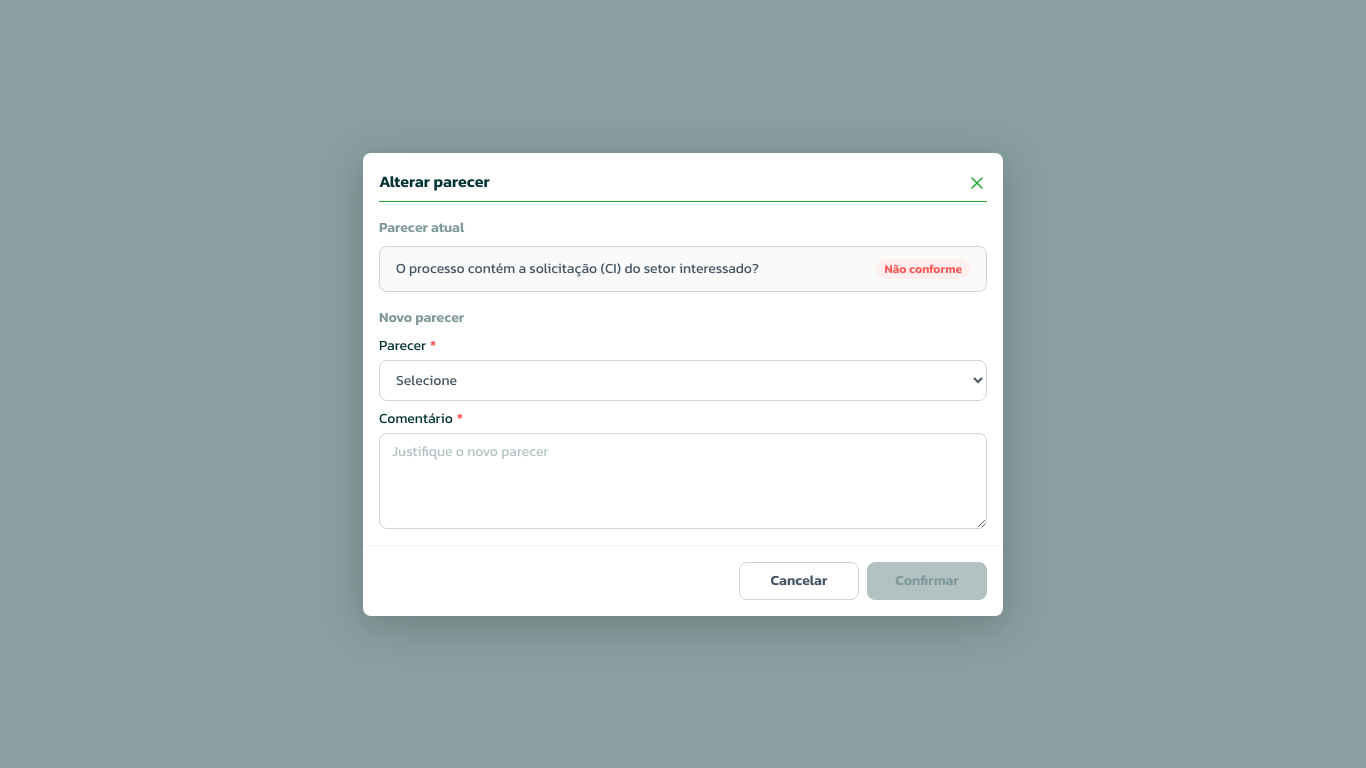
Test: AlterarParecerModal › editar um campo depois de um erro do servidor limpa a faixa de erro
The image size is (1366, 768).
Select "Conforme" in the dropdown labelled "Parecer *": (683, 380) [379,360,987,400]
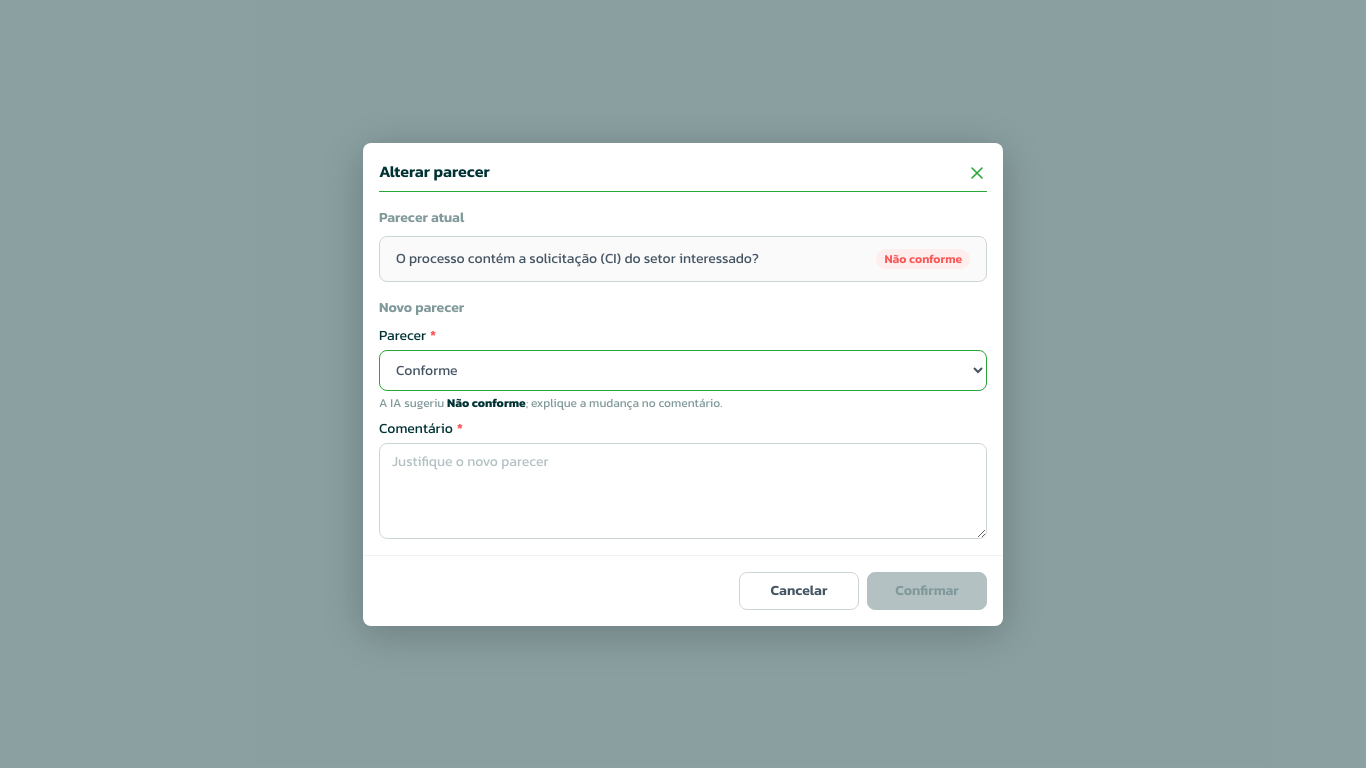
In the text box labelled "Comentário *": (683, 490) [379,442,987,538], type "ok"
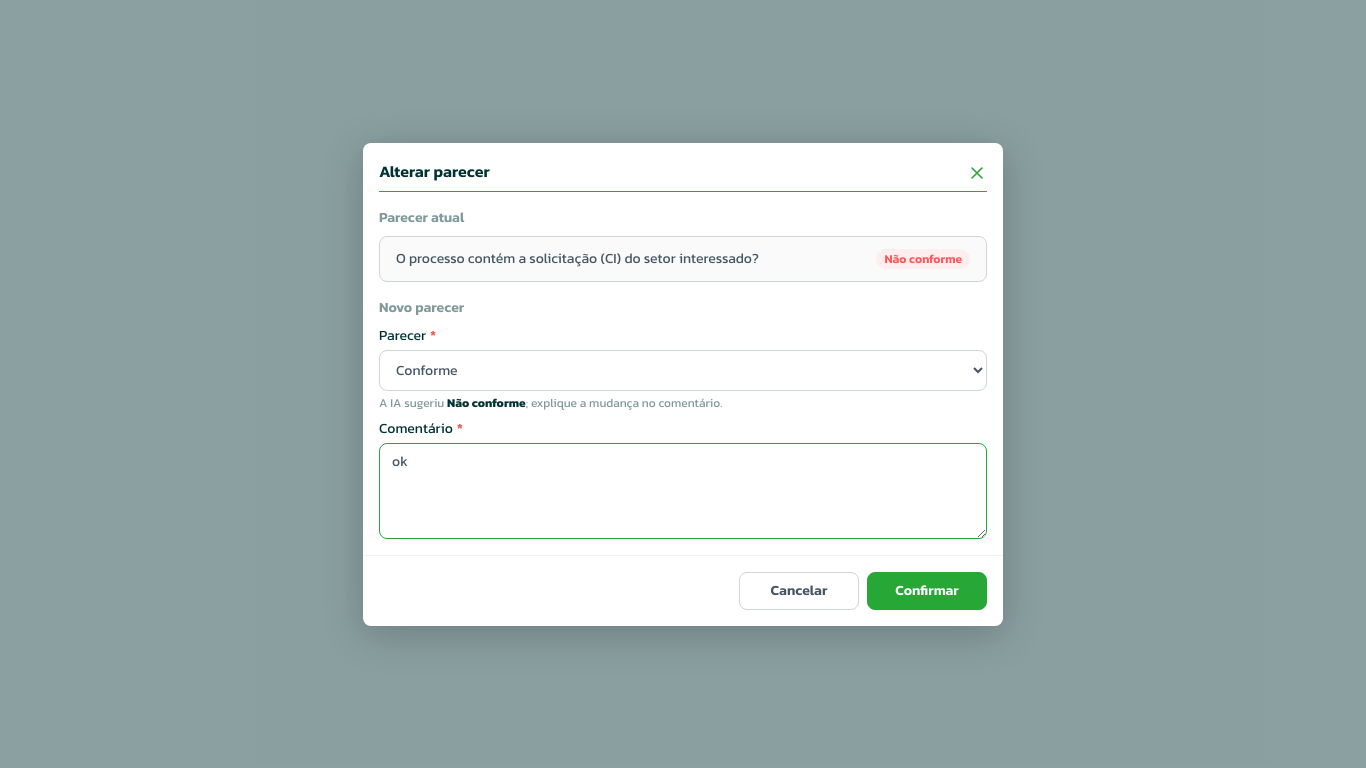
Click the button "Confirmar": click(927, 590) [867,572,987,610]
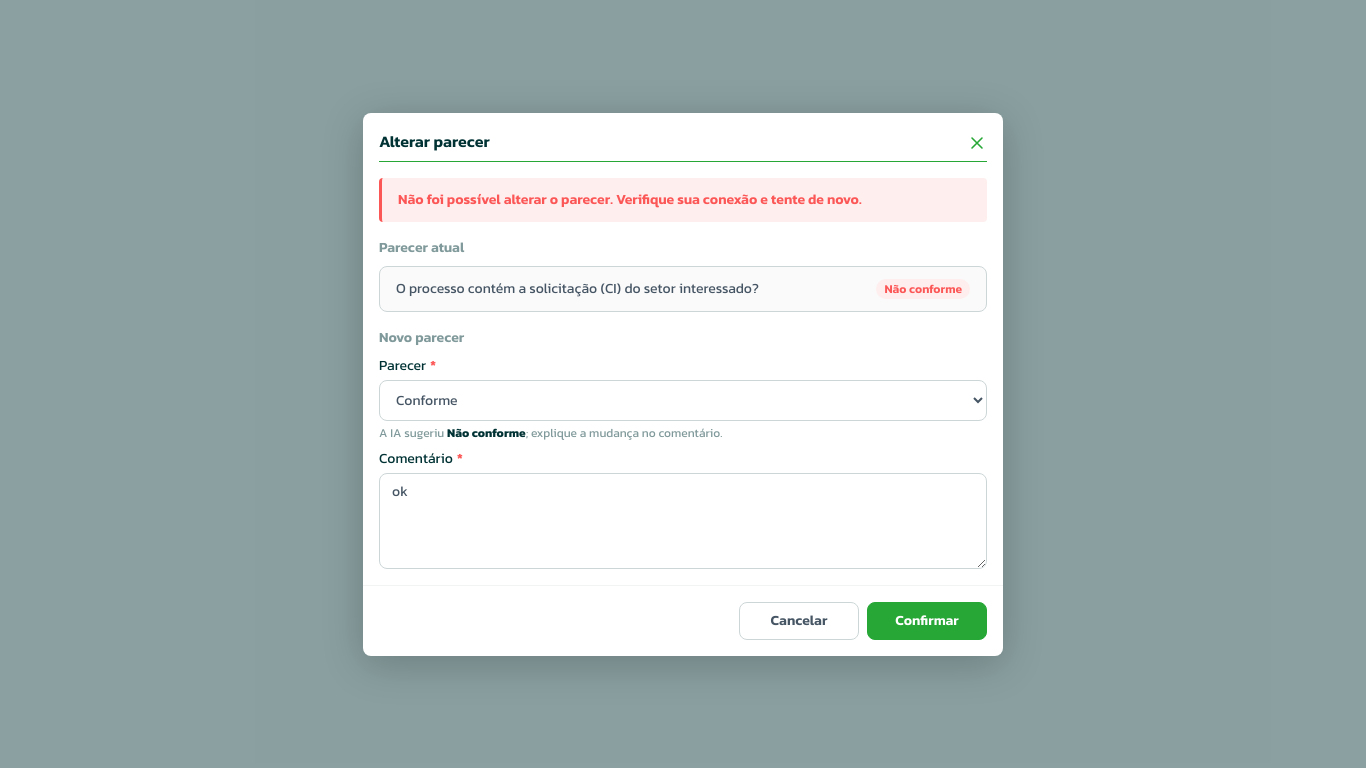
Result: the message "Não foi possível alterar o parecer. Verifique sua conexão e tente de novo." is shown at [379,178,987,222]
In the text box labelled "Comentário *": (683, 520) [379,472,987,568], type " mais contexto"
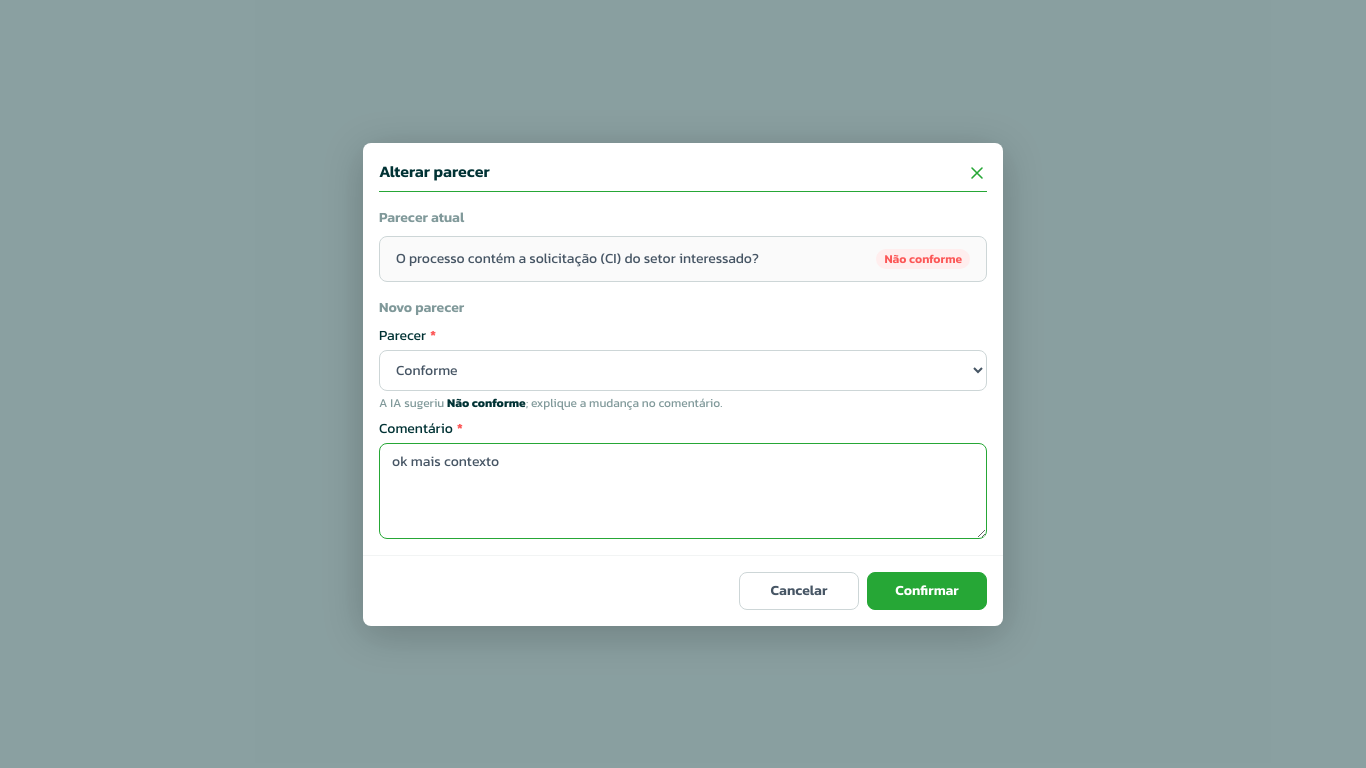
Result: the message "Não foi possível alterar o parecer. Verifique sua conexão e tente de novo." is gone
